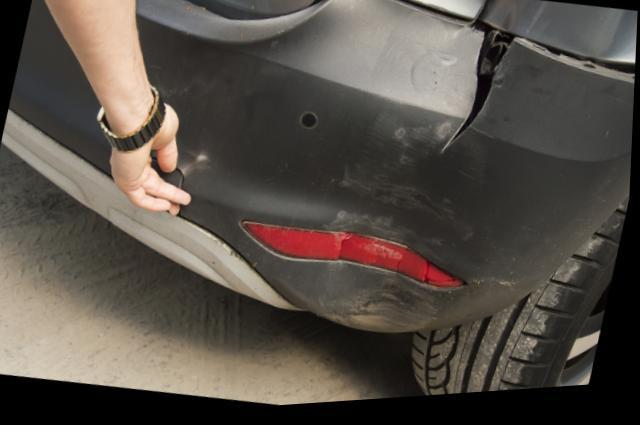crack: (440, 41, 516, 159)
dent: (325, 134, 478, 335)
dislocated part: (519, 44, 636, 100)
